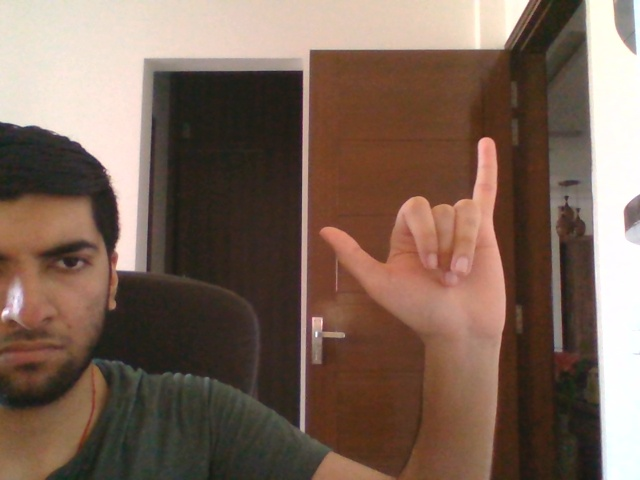LetterY: (316, 133, 509, 342)
